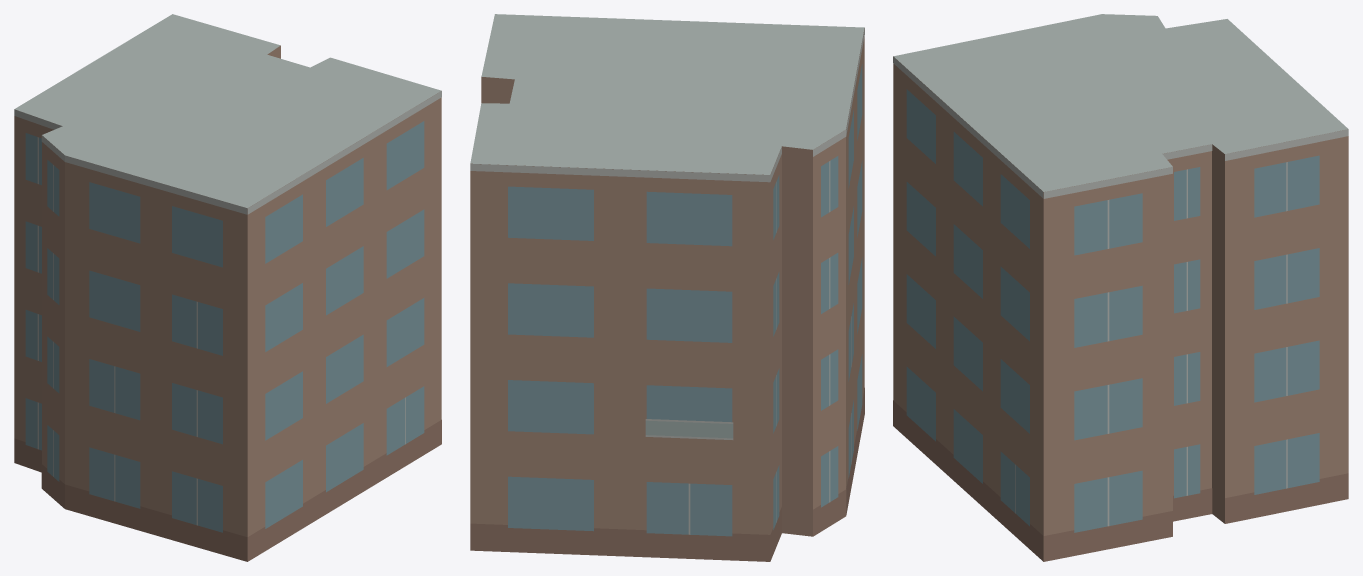
The model's file is survey-upis-32960432.glb.
The picture shows the model from 3 angles, left to right: view 1: azimuth 30°, elevation 25°; view 2: azimuth 150°, elevation 25°; view 3: azimuth 270°, elevation 25°; orthographic projection. The views are drawn at different scales.
Visible parts, largest first — view 1: survey-upis-32960432.tmp; view 2: survey-upis-32960432.tmp; view 3: survey-upis-32960432.tmp.
Boxes of the visible parts, x1=… form: survey-upis-32960432.tmp: x1=14, y1=14, x2=441, y2=561; survey-upis-32960432.tmp: x1=470, y1=14, x2=864, y2=561; survey-upis-32960432.tmp: x1=893, y1=14, x2=1348, y2=561.
Size of the model in its own units: 13.48 by 13.05 by 14.57.
